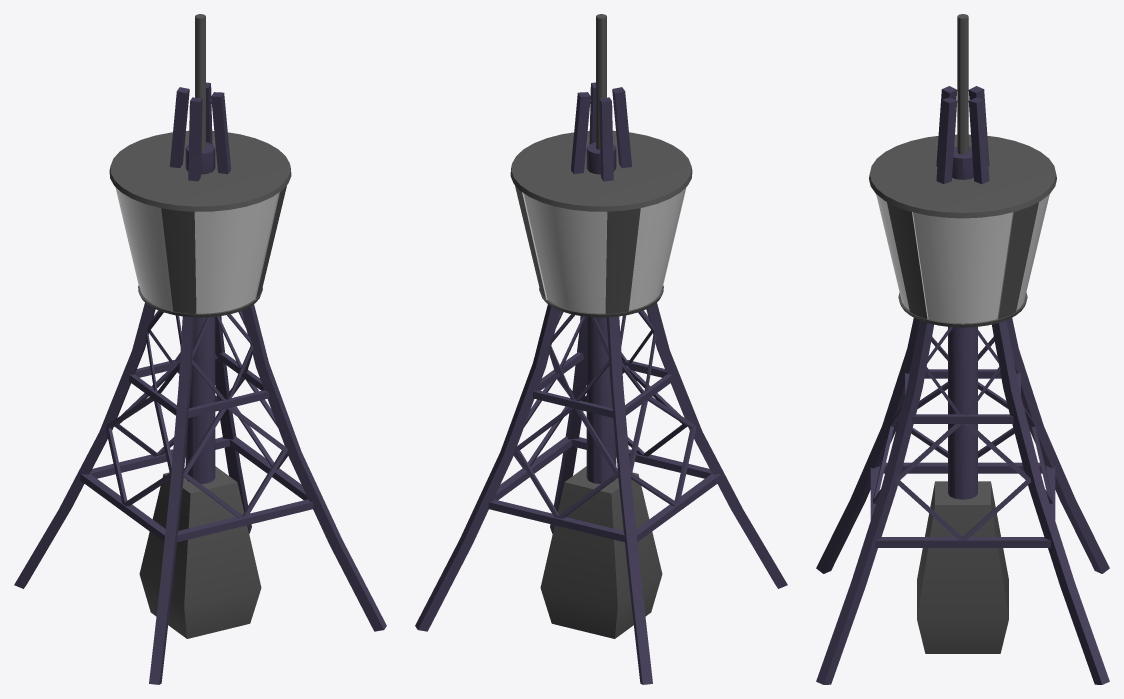
The model's file is Tower.fbx.
3 views of the same model, side by side, from view 1: azimuth 30°, elevation 25°; view 2: azimuth 150°, elevation 25°; view 3: azimuth 270°, elevation 25° (orthographic). The views are drawn at different scales.
Visible parts, largest first — view 1: 立方体.009; view 2: 立方体.009; view 3: 立方体.009.
Boxes of the visible parts, box(x1,y1,x2,y2) form: 立方体.009: box(14, 14, 386, 684); 立方体.009: box(415, 14, 787, 684); 立方体.009: box(816, 14, 1109, 684).
Size of the model in its own units: 847 by 2047 by 877.
